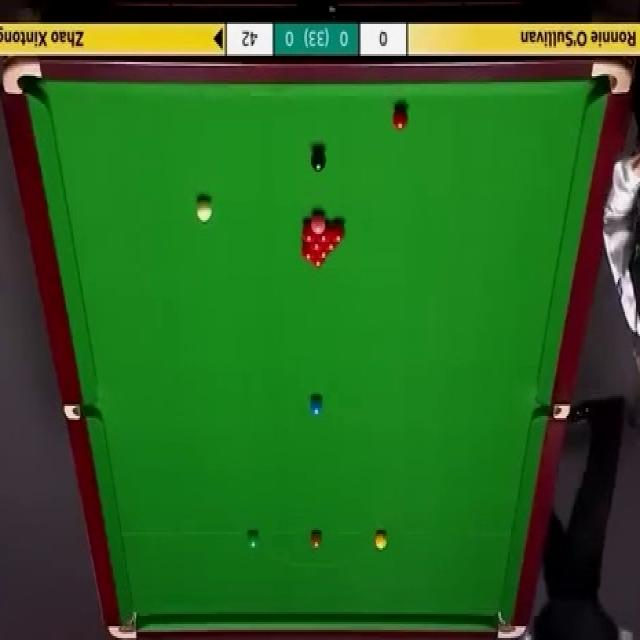black-ball: (309, 144, 326, 174)
blue-ball: (308, 395, 324, 420)
brown-ball: (309, 529, 323, 549)
green-ball: (244, 528, 258, 550)
pink-ball: (310, 212, 326, 234)
red-ball: (393, 106, 408, 130), (331, 220, 346, 243), (302, 220, 316, 243), (317, 222, 330, 242), (301, 244, 315, 260), (307, 242, 324, 252), (314, 250, 332, 259), (324, 242, 338, 252), (310, 259, 325, 268)
white-ball: (196, 196, 212, 225)
yellow-ball: (374, 530, 388, 550)
